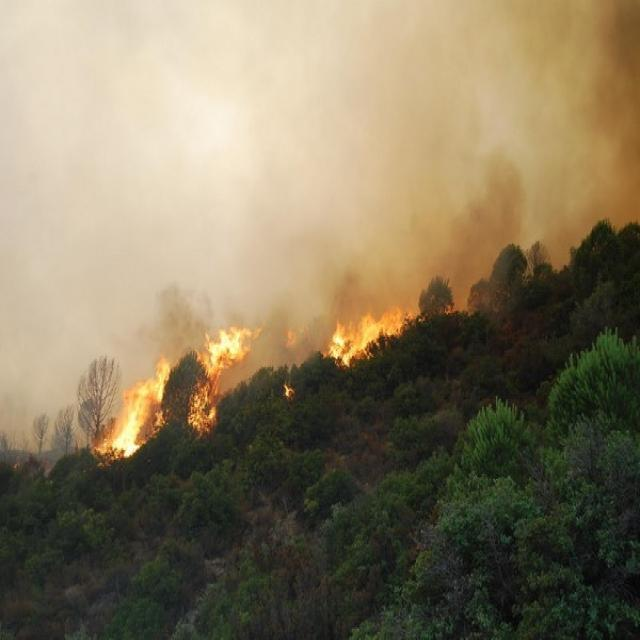Fire: (91, 354, 170, 462), (186, 324, 262, 432), (321, 302, 420, 371), (282, 380, 294, 399)
Smoke: (143, 1, 640, 392)
